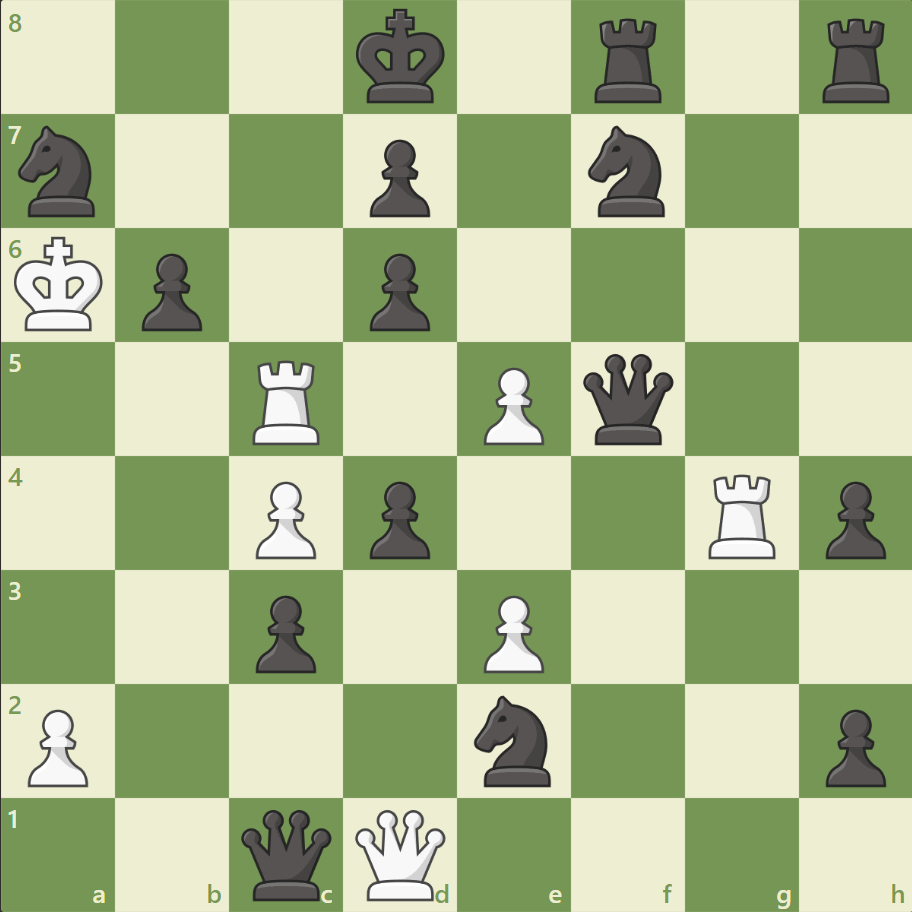K: (11, 231, 111, 339)
P: (474, 359, 549, 450), (247, 473, 322, 564), (474, 586, 549, 677), (20, 700, 95, 791)
Q: (351, 804, 450, 903)
R: (246, 352, 329, 449), (700, 466, 783, 563)
k: (351, 4, 451, 112)
n: (465, 688, 562, 791), (11, 121, 108, 223), (579, 121, 676, 223)
p: (133, 246, 208, 337), (247, 586, 322, 677), (361, 132, 435, 223), (361, 246, 435, 337), (361, 473, 435, 564), (815, 473, 889, 564), (815, 700, 889, 791)
q: (578, 349, 677, 449), (237, 804, 336, 903)
r: (587, 12, 670, 109), (814, 12, 897, 109)
